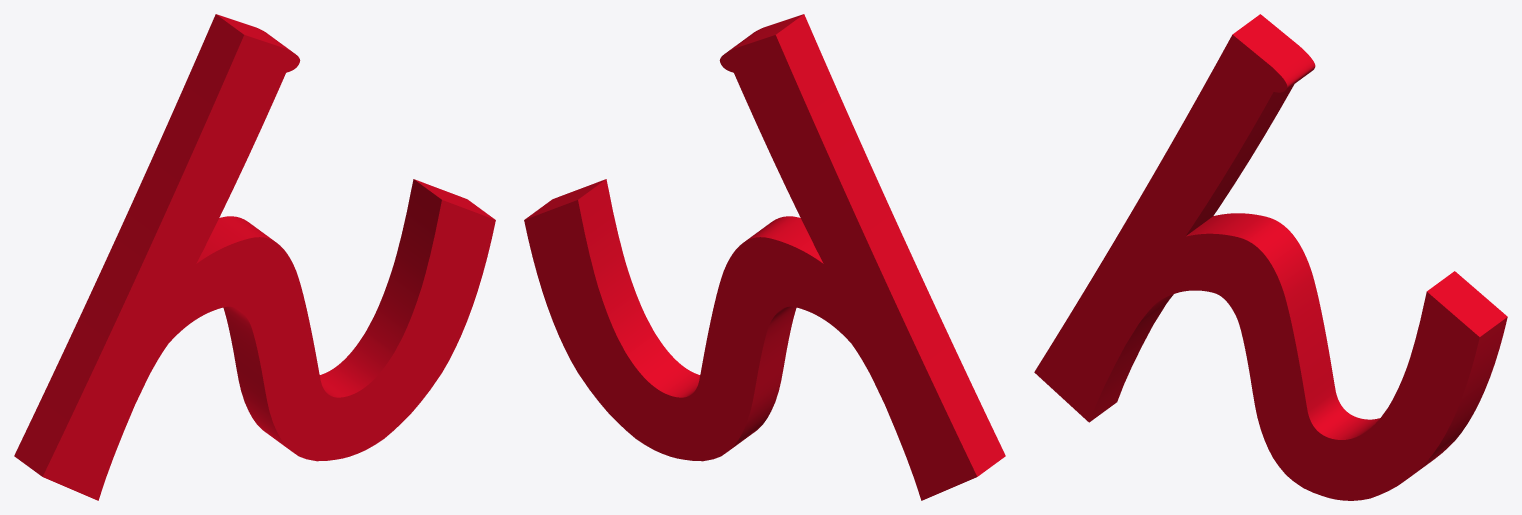
3 renders of one model, left to right at view 1: azimuth 30°, elevation 25°; view 2: azimuth 150°, elevation 25°; view 3: azimuth 330°, elevation 25°, orthographic.
Parts seen in each view (by area): view 1: nn; view 2: nn; view 3: nn.
Part boxes in pixels (<box>): nn: <box>14,14,495,500</box>; nn: <box>524,14,1005,500</box>; nn: <box>1034,14,1507,500</box>.
Bounding box in the file's own units: 90.14 × 85.06 × 9.82.
